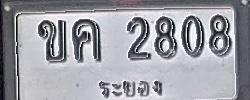0: (181, 14, 204, 57)
2: (126, 16, 151, 60)
8: (154, 16, 177, 59), (209, 14, 231, 56)
A02: (38, 19, 67, 62)
A04: (72, 18, 102, 62)
RYG: (93, 76, 167, 100)
